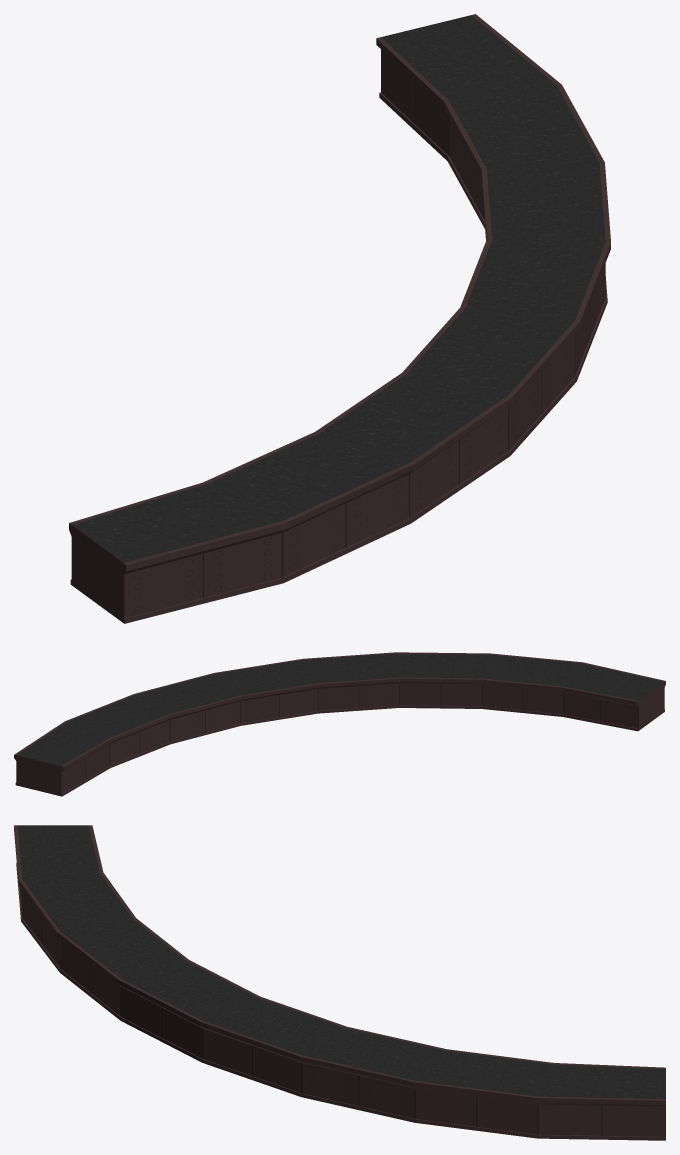
Rendered from SW_ENV_EL_TrackBase_SingleInner.fbx.
3 views of the same model, one above another, from view 1: azimuth 30°, elevation 25°; view 2: azimuth 150°, elevation 25°; view 3: azimuth 270°, elevation 25° (orthographic). The views are drawn at different scales.
Visible parts, largest first — view 1: SW_ENV_EL_TrackBase_SingleInner; view 2: SW_ENV_EL_TrackBase_SingleInner; view 3: SW_ENV_EL_TrackBase_SingleInner.
Part boxes in pixels (left/top/right/bottom): SW_ENV_EL_TrackBase_SingleInner: left=69, top=14, right=610, bottom=623; SW_ENV_EL_TrackBase_SingleInner: left=14, top=652, right=665, bottom=796; SW_ENV_EL_TrackBase_SingleInner: left=14, top=825, right=665, bottom=1140.
Bounding box in the file's own units: 2660 × 190 × 2660.
